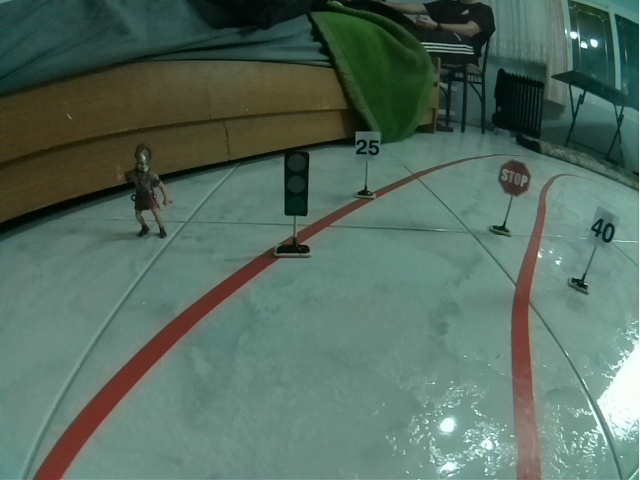Green Traffic Light: (284, 151, 309, 217)
Person: (117, 143, 173, 239)
Speed Limit 25: (356, 131, 382, 161)
Speed Limit 40: (587, 206, 620, 251)
Stop: (497, 159, 532, 198)
